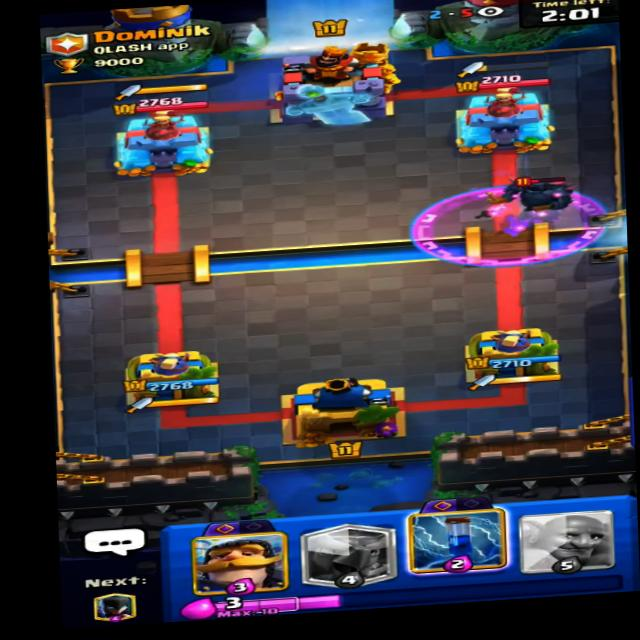pekka: (493, 166, 579, 219)
